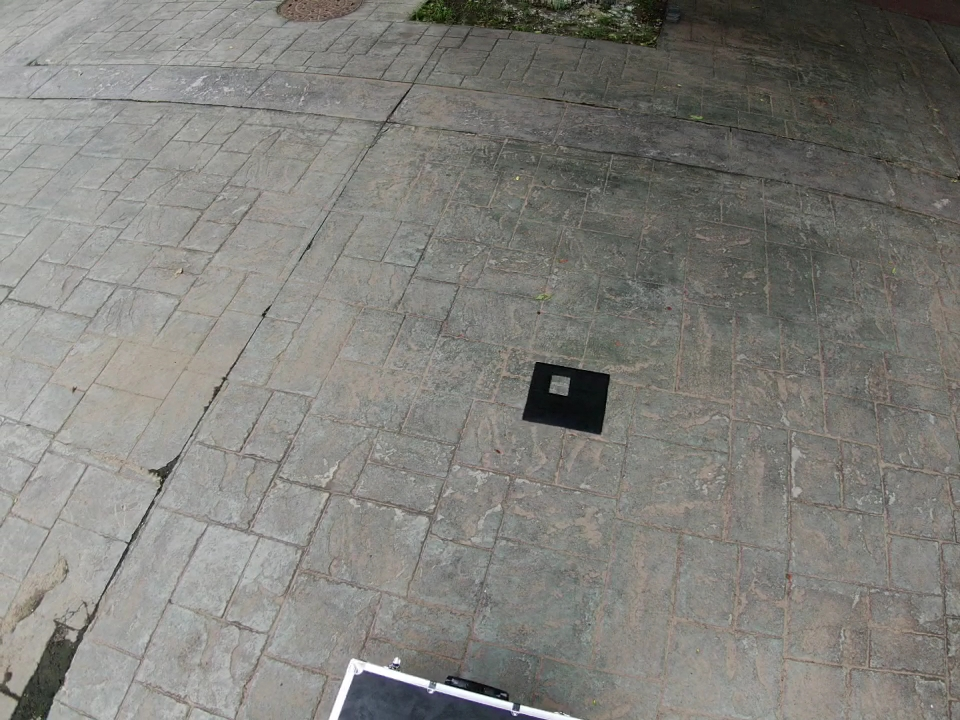qrcode: (522, 362, 610, 434)
